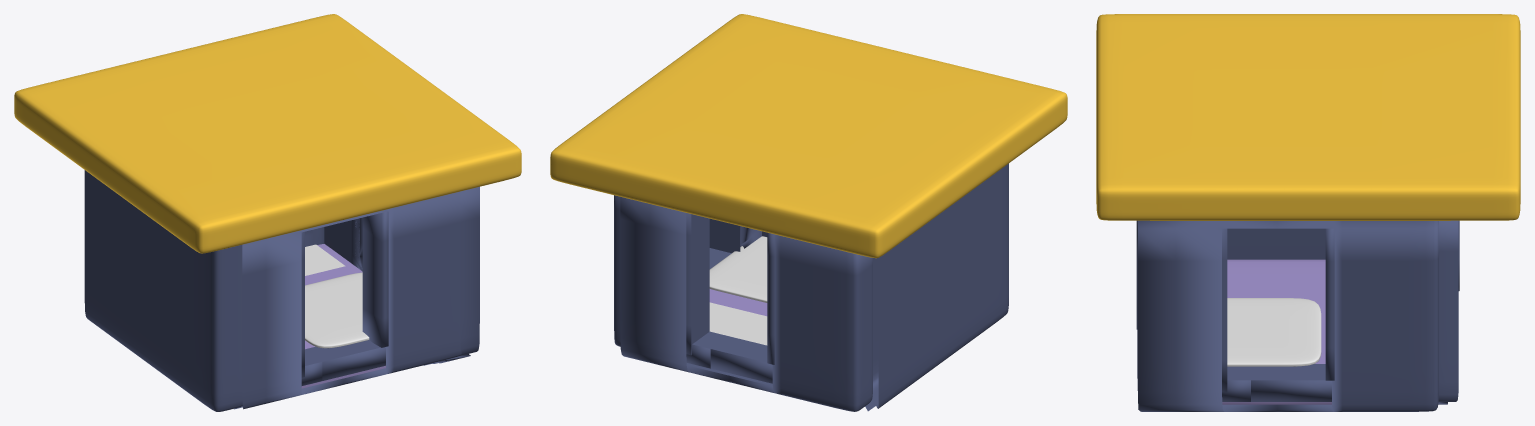
Rendered from sala.fbx.
3 renders of one model, left to right at view 1: azimuth 30°, elevation 25°; view 2: azimuth 150°, elevation 25°; view 3: azimuth 270°, elevation 25°, orthographic. The views are drawn at different scales.
Visible parts, largest first — view 1: chao.001, parede.002, parede, parede.001, rug, chao, Plane; view 2: chao.001, parede.003, parede, rug, parede.001, Plane, chao; view 3: chao.001, parede.001, rug, chao, parede.003, parede.
Part boxes in pixels (x1,y1,x2,y2): chao.001: [14, 14, 521, 253]; parede.002: [234, 191, 461, 409]; parede: [84, 170, 242, 411]; parede.001: [324, 186, 479, 365]; rug: [305, 272, 369, 348]; chao: [301, 244, 385, 388]; Plane: [305, 244, 345, 275]; chao.001: [550, 14, 1067, 258]; parede.003: [620, 197, 872, 411]; parede: [865, 163, 1008, 411]; rug: [709, 236, 767, 302]; parede.001: [614, 195, 761, 346]; Plane: [709, 302, 767, 345]; chao: [709, 289, 767, 316]; chao.001: [1096, 14, 1520, 220]; parede.001: [1138, 220, 1438, 411]; rug: [1227, 298, 1321, 366]; chao: [1222, 259, 1331, 404]; parede.003: [1438, 220, 1459, 404]; parede: [1227, 228, 1325, 259].
Bounding box in the file's own units: 456 × 289 × 459.
